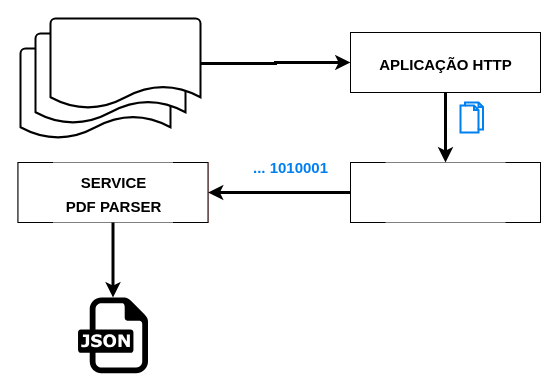
Some shapes in this 558 by 391 pixel diagram are drawn without their labels. Each missing label, with the centre of its shape:
"PDFs Externos" goes at (125,63).
"SERVICE PDF BUFFER" goes at (445,192).
